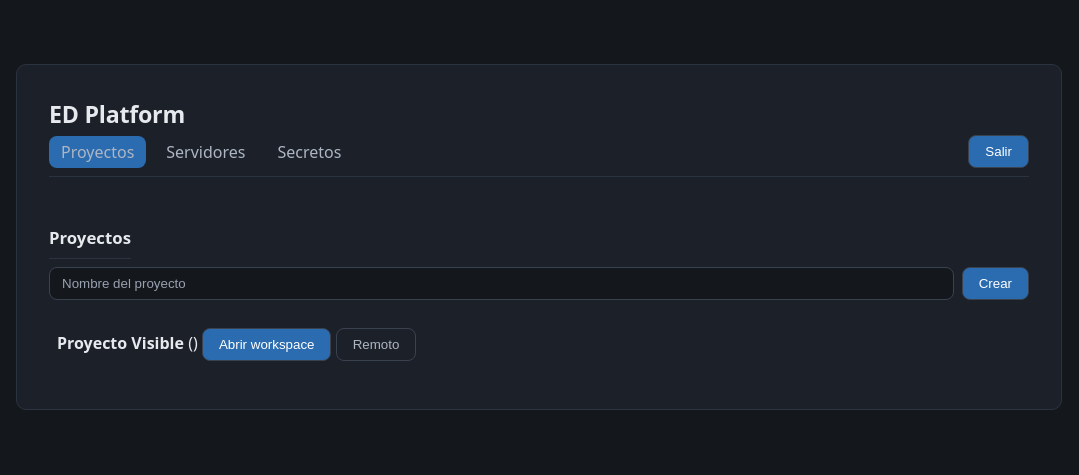
Test case: App › navegación del shell (F4-6b) › vuelve a Proyectos con el enlace de navegación
The image size is (1079, 475).
Expected: the text "Proyecto Visible" is shown, x1=57 y1=332 x2=184 y2=354
Click the link "Secretos": (309, 152) x1=278 y1=141 x2=341 y2=163
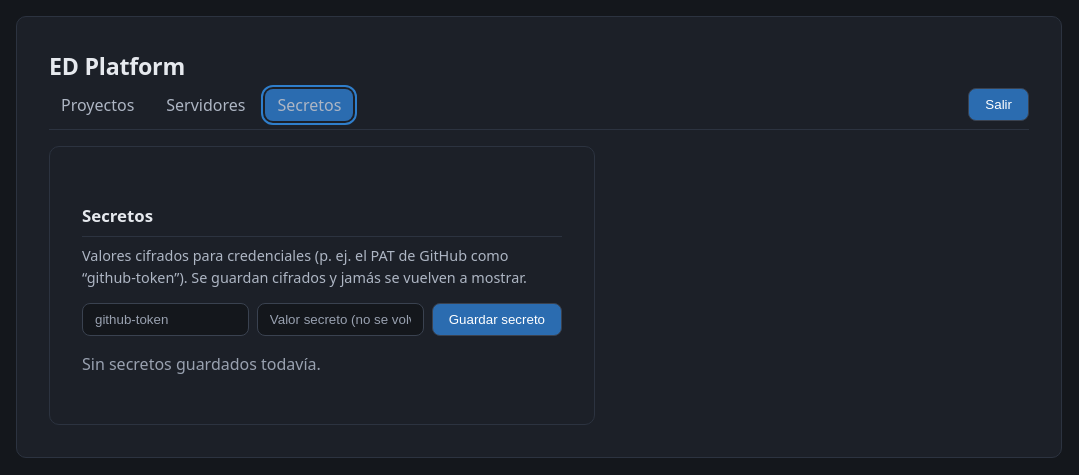
Expected: the element with test id "panel-secretos" is shown, x1=49 y1=146 x2=595 y2=425
Click the link "Proyectos": (98, 104) x1=61 y1=94 x2=134 y2=116
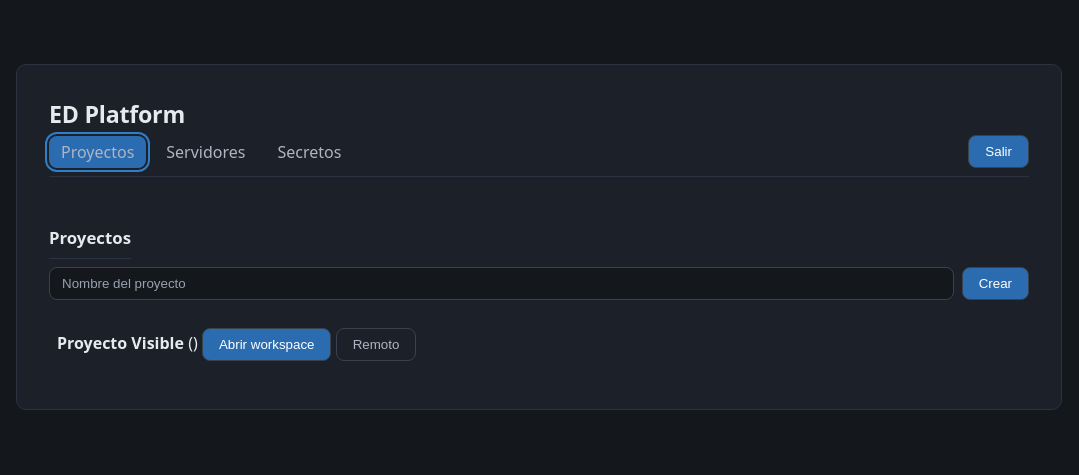
Expected: the element with test id "panel-proyectos" is shown, x1=49 y1=193 x2=1029 y2=370
